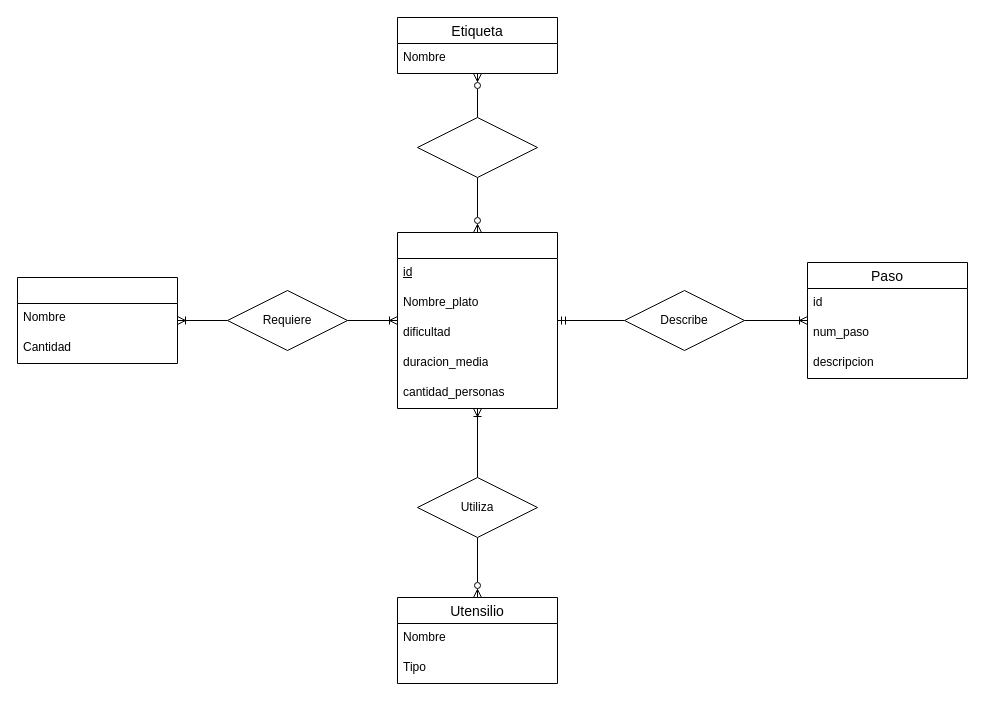
Image size: 985x704. Some labels were removed from this diagram. Here are the shapes that lost their labels. From the top down, the box of each, then its label:
(416, 116, 538, 178): Tiene
(16, 276, 178, 364): Ingrediente
(396, 232, 558, 408): Receta
